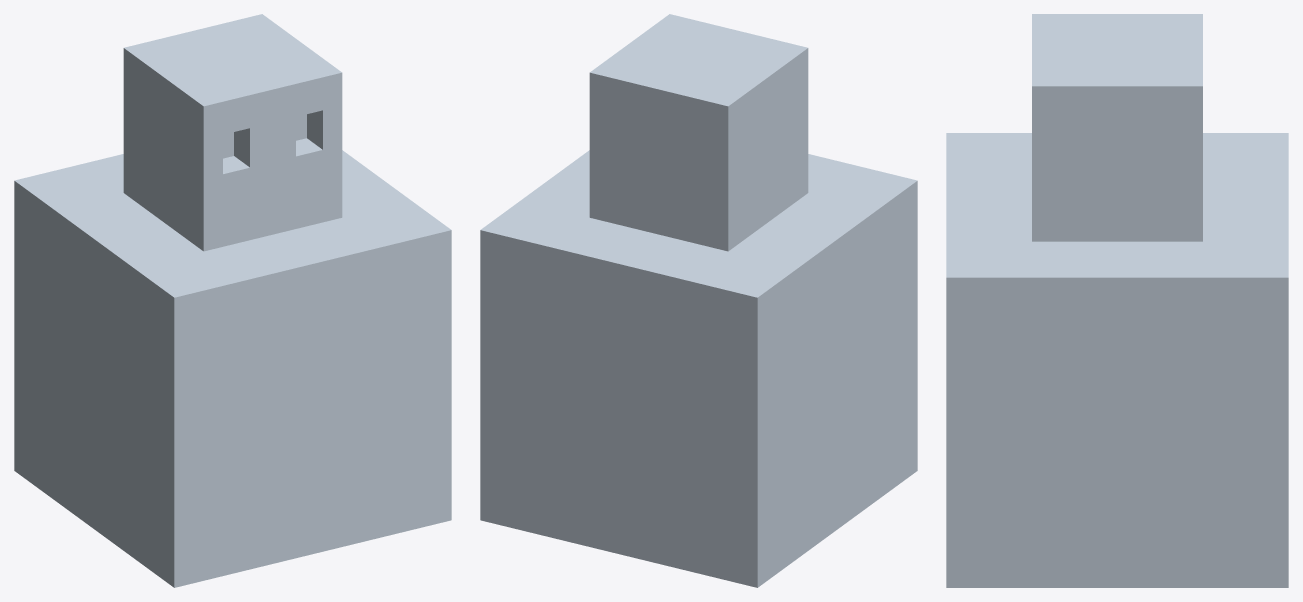
File: PLAYER1.obj
The picture shows the model from 3 angles, left to right: view 1: azimuth 30°, elevation 25°; view 2: azimuth 150°, elevation 25°; view 3: azimuth 270°, elevation 25°; orthographic projection. The views are drawn at different scales.
Parts seen in each view (by area): view 1: mesh3; view 2: mesh3; view 3: mesh3.
Part boxes in pixels (x1=…): mesh3: x1=14, y1=14, x2=451, y2=587; mesh3: x1=480, y1=14, x2=917, y2=587; mesh3: x1=946, y1=14, x2=1288, y2=587.
Bounding box in the file's own units: 1.81 × 2.71 × 1.81.
